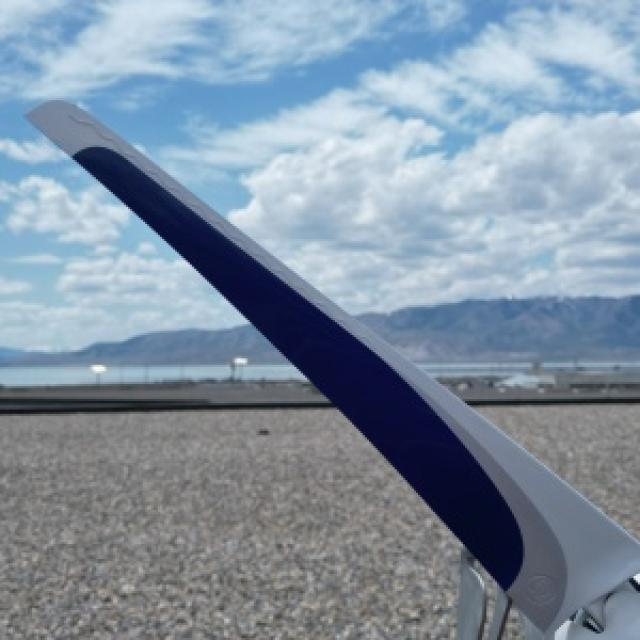healthy: (26, 100, 638, 638)
